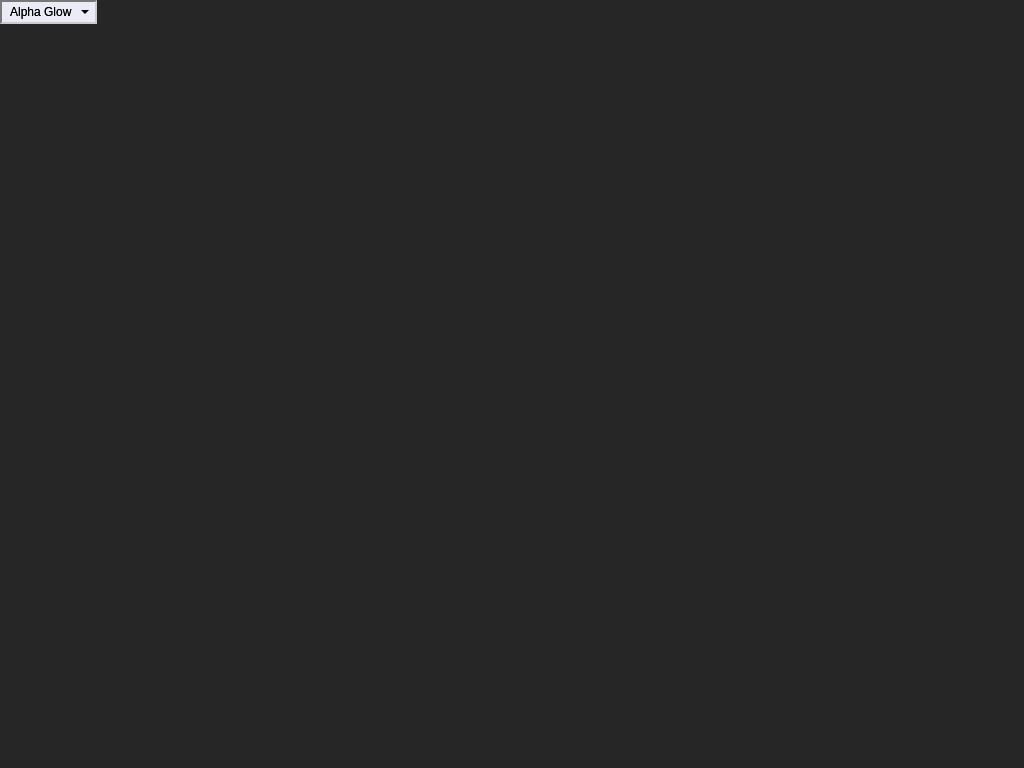
Scenario: FilterCombobox › deduplicates current/recent suggestions without mutating from closed arrow keys
Press ArrowDown in the dropdown labelled "Alpha Glow", box [0,0,97,24]
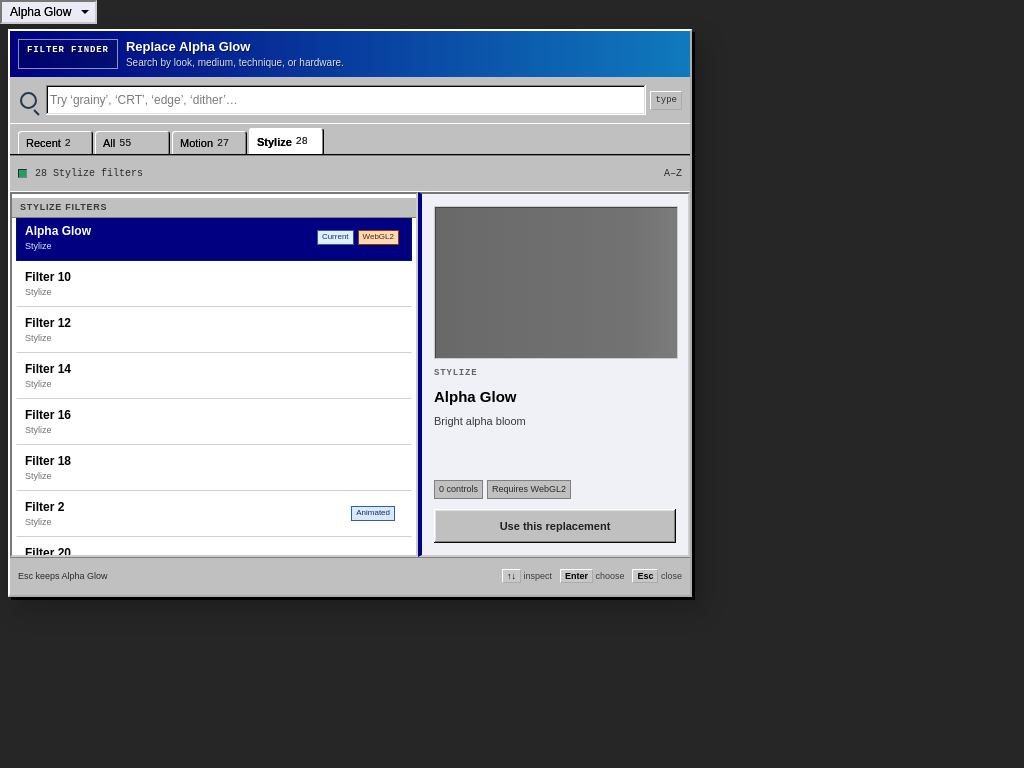
Check: the text "Stylize filters" is shown, box [35,168,143,179]
Check: the tab "Recent 2" is shown
Click the tab "Recent 2" at (56, 143), box [18,131,93,155]
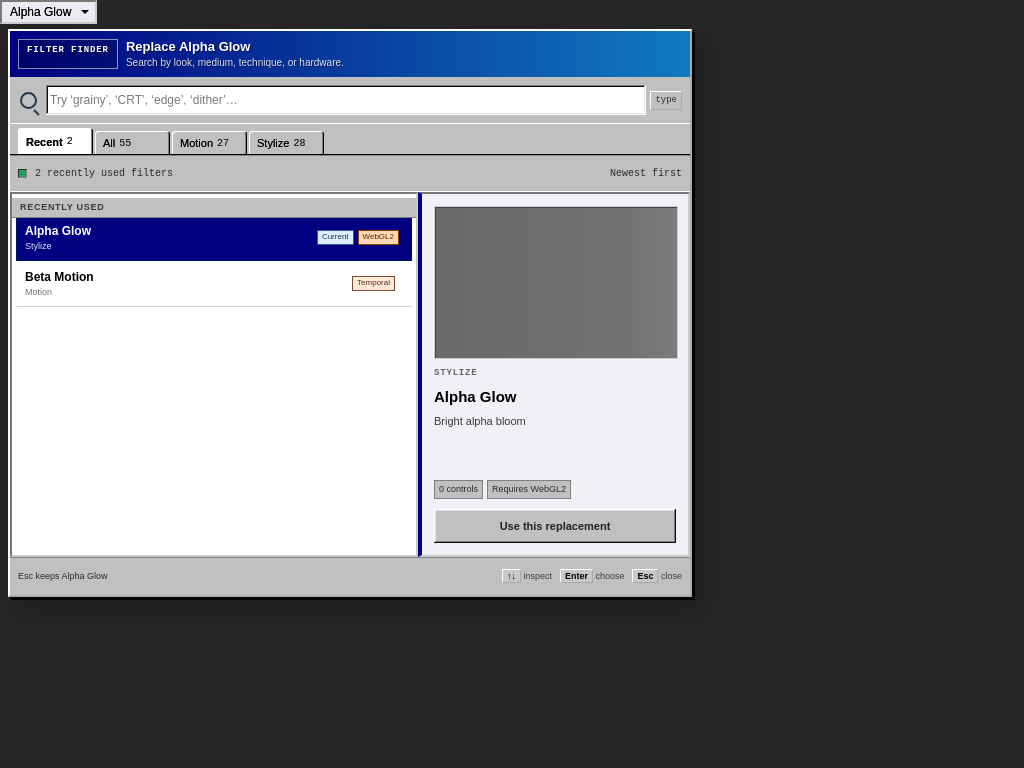
Check: the text "recently used" is shown, box [35,168,173,179]
